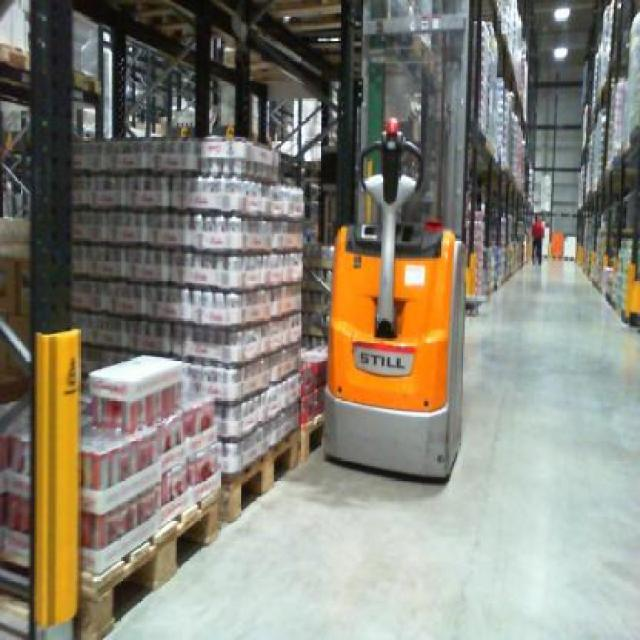ground: (106, 257, 638, 638)
pallet: (73, 413, 332, 638)
